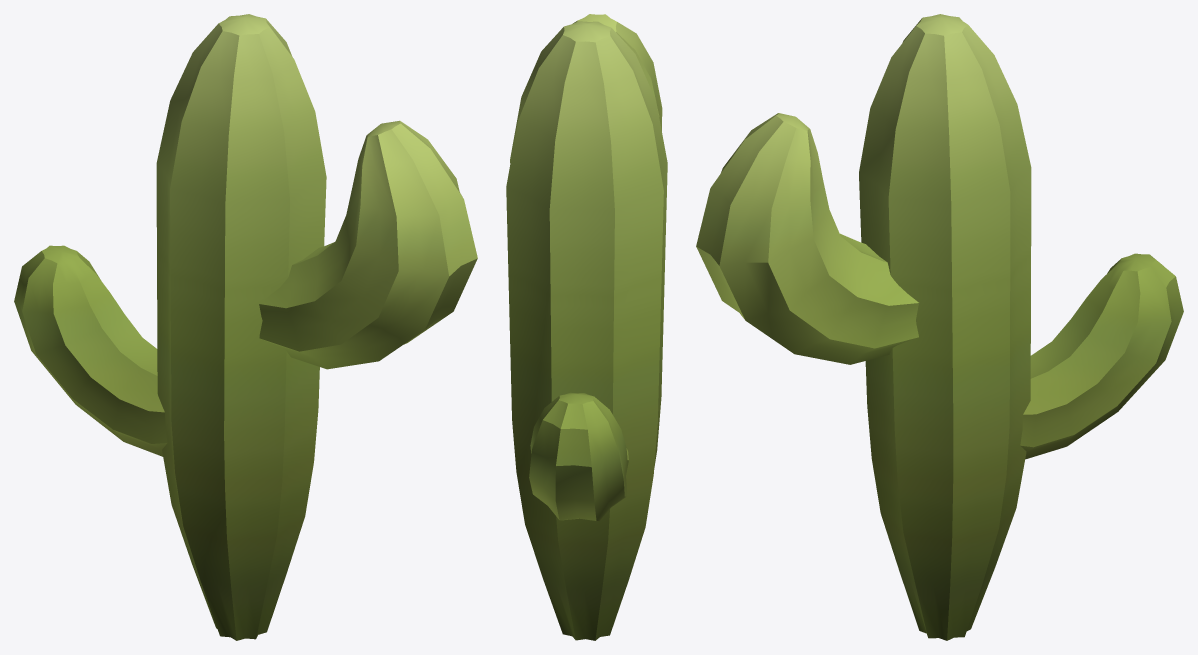
Rendered from military_cactus1.fbx.
The picture shows the model from 3 angles, left to right: view 1: azimuth 30°, elevation 25°; view 2: azimuth 150°, elevation 25°; view 3: azimuth 270°, elevation 25°; orthographic projection.
Visible parts, largest first — view 1: military_cactus1; view 2: military_cactus1; view 3: military_cactus1.
Part boxes in pixels (x1,y1,x2,y2): military_cactus1: (14,14,477,640); military_cactus1: (506,14,667,640); military_cactus1: (696,14,1183,640).
Bounding box in the file's own units: 0.5876 × 1.31 × 0.9421.
